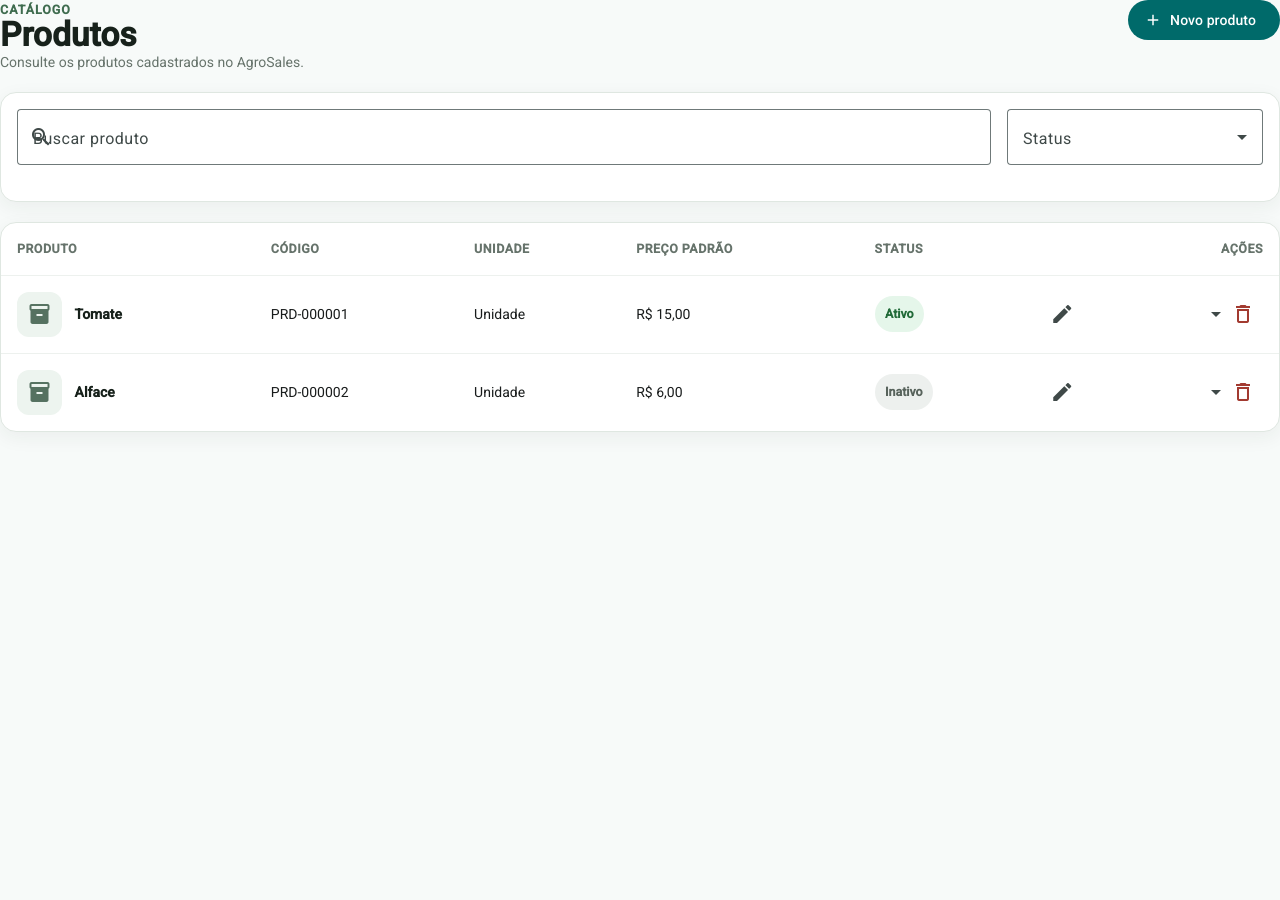
Test: ProductsComponent › closes the product panel when canceling
Click the button with test id "new-product-button".
click(1204, 20)  # box left=1128, top=0, right=1279, bottom=40
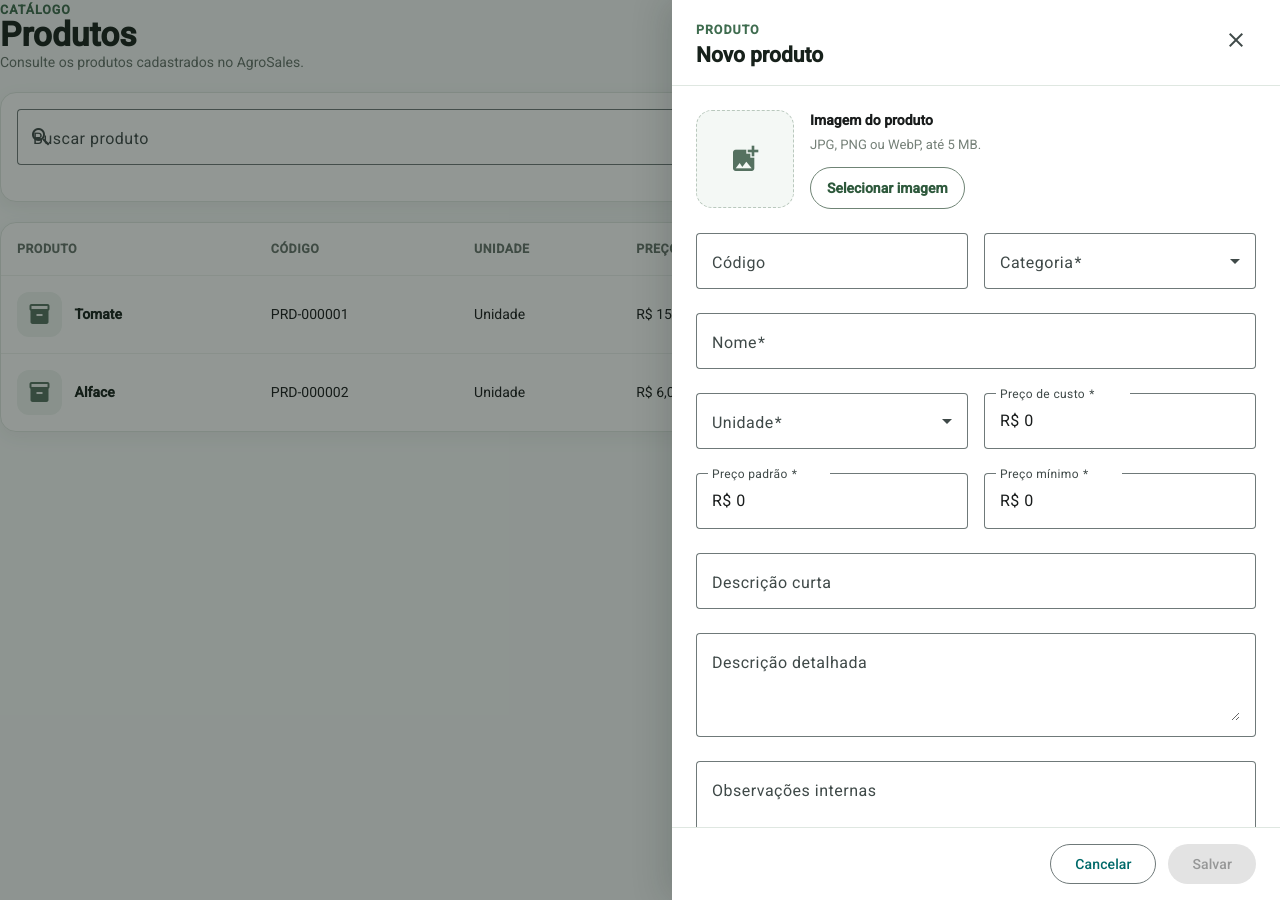
Click the button with test id "cancel-product-button".
click(1103, 864)  # box left=1050, top=844, right=1156, bottom=884
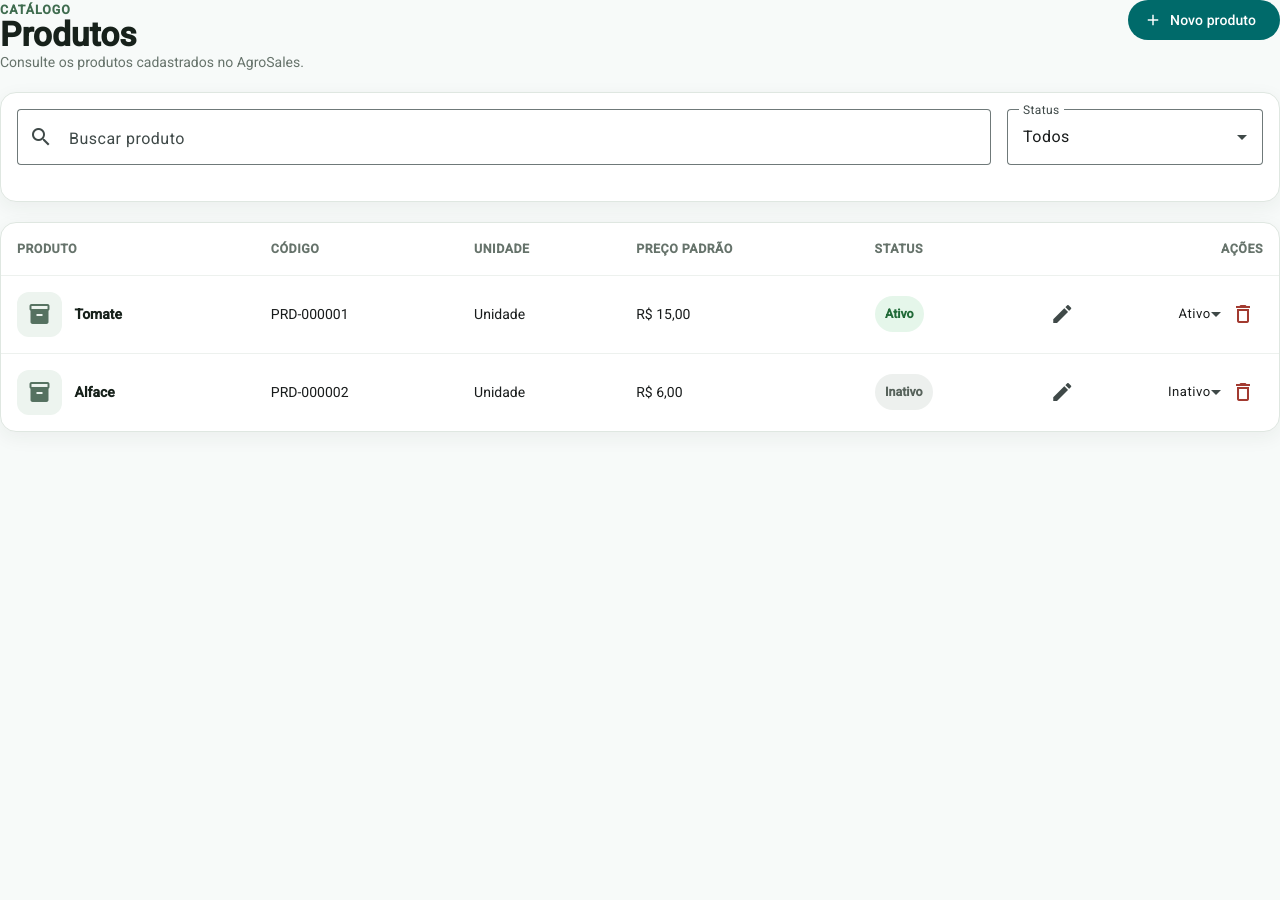
Check: the dialog with test id "product-panel" is gone
